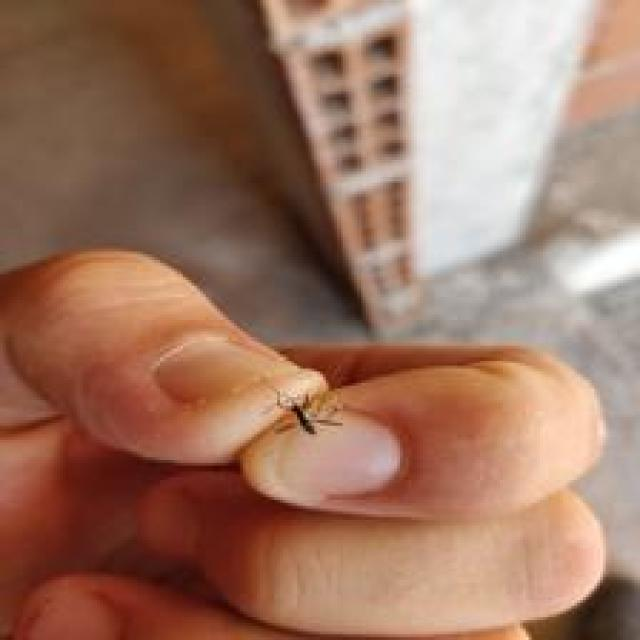Aedes albopictus: (273, 384, 344, 436)
